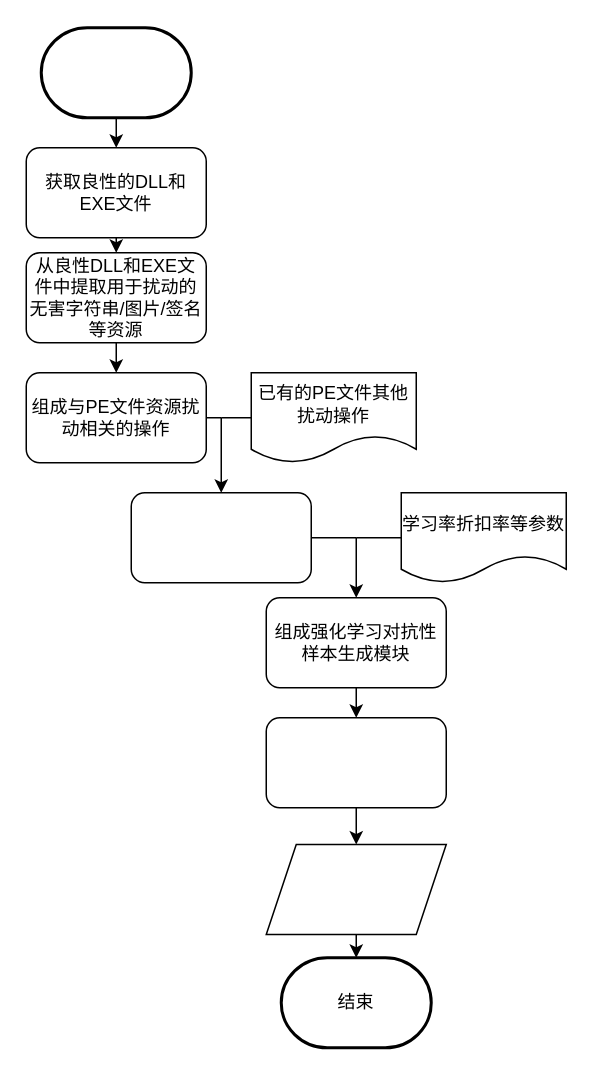
Some shapes in this 593 by 1074 pixel diagram are drawn without their labels. Here are the shapes that lost their labels. From the top down, the centre of each, then its label:
the point at 115,72: 开始
the point at 220,537: 组成扰动动作集
the point at 355,762: 使用Part1筛选后的原始恶意程序样本集
the point at 355,888: 生成对抗性PE 恶意程序样本集 并存储
